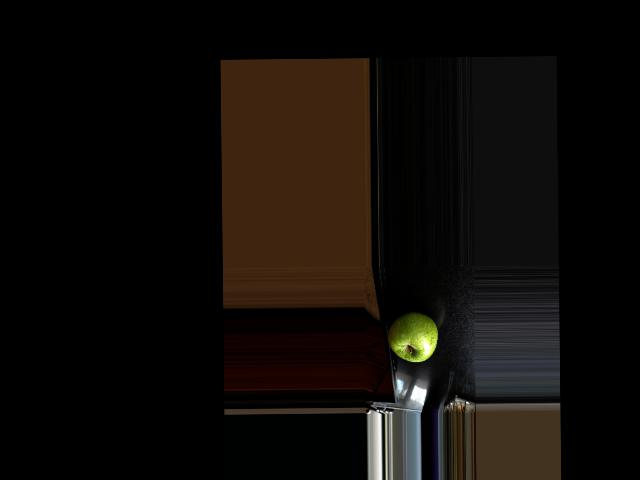apple: (386, 308, 441, 365)
